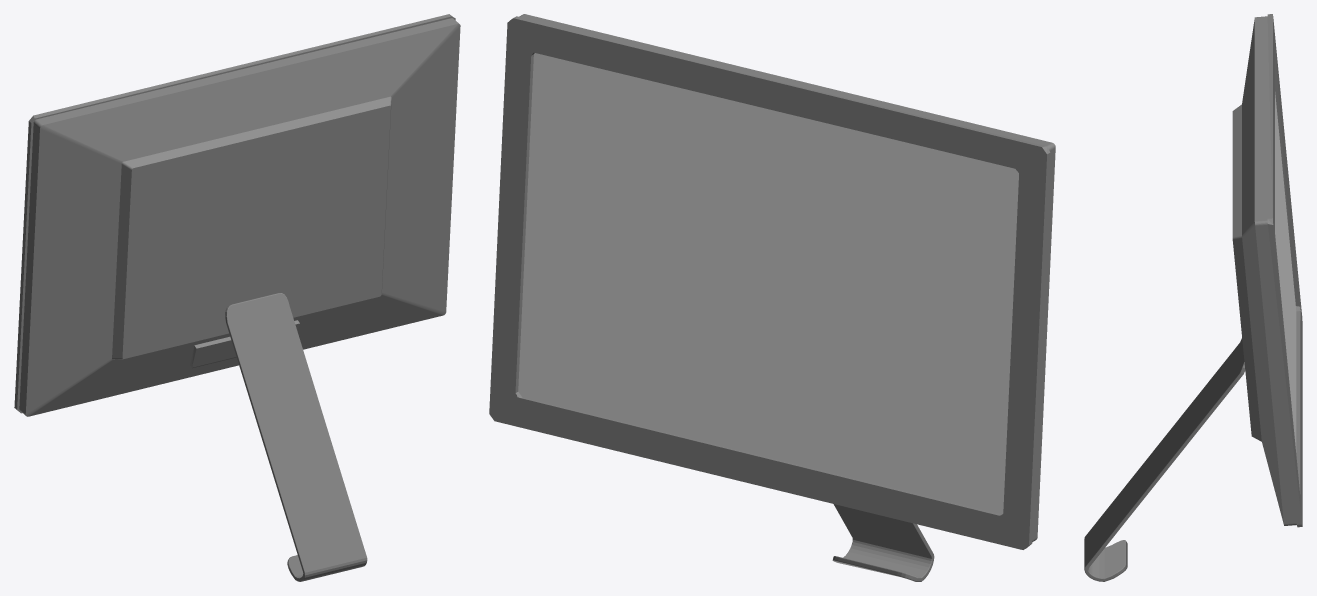
Rendered from BR_Monitor.glb.
3 renders of one model, left to right at view 1: azimuth 30°, elevation 25°; view 2: azimuth 150°, elevation 25°; view 3: azimuth 270°, elevation 25°, orthographic. The views are drawn at different scales.
Parts seen in each view (by area): view 1: monitor; view 2: screen, monitor; view 3: monitor, screen.
Boxes of the visible parts, x1=… form: monitor: x1=14, y1=14, x2=460, y2=581; screen: x1=517, y1=53, x2=1018, y2=514; monitor: x1=489, y1=14, x2=1055, y2=581; monitor: x1=1084, y1=14, x2=1302, y2=581; screen: x1=1275, y1=92, x2=1296, y2=452.
Bounding box in the file's own units: 0.7339 × 0.7379 × 0.3243.
2 materials, 2 textured.
